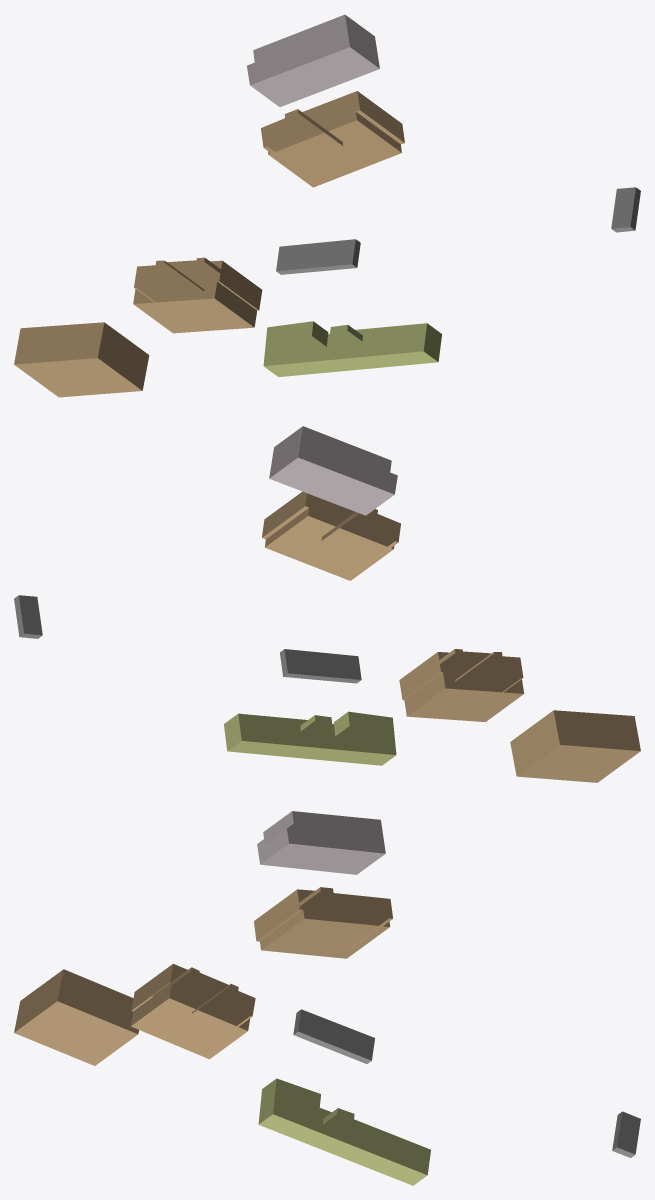
3 renders of one model, top to bottom at view 1: azimuth 30°, elevation 25°; view 2: azimuth 150°, elevation 25°; view 3: azimuth 330°, elevation 25°, orthographic. The views are drawn at different scales.
Parts seen in each view (by area): view 1: 0_3_2_3_1_2_2; view 2: 0_3_2_3_1_2_2; view 3: 0_3_2_3_1_2_2.
Boxes of the visible parts, x1,y1,x2,y2 form: 0_3_2_3_1_2_2: (14, 14, 640, 397); 0_3_2_3_1_2_2: (14, 426, 640, 782); 0_3_2_3_1_2_2: (14, 811, 640, 1185).
Bounding box in the file's own units: 213 × 113 × 28.13.
